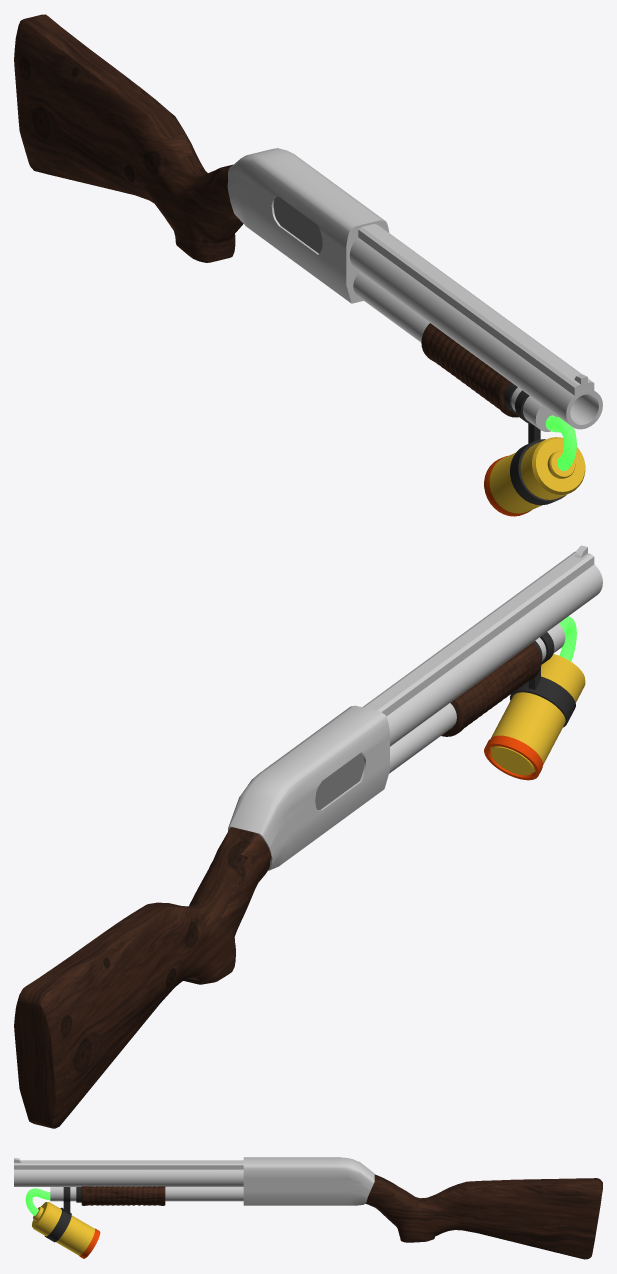
Rendered from greenballshotgun.fbx.
3 renders of one model, top to bottom at view 1: azimuth 30°, elevation 25°; view 2: azimuth 150°, elevation 25°; view 3: azimuth 270°, elevation 25°, orthographic. The views are drawn at different scales.
Parts seen in each view (by area): view 1: Cube.002, Cube, Cylinder, Cube.001, Cylinder.002, Cylinder.003, Cylinder.001, Cylinder.005, Cube.003, NurbsPath; view 2: Cube.002, Cube, Cylinder, Cube.001, Cylinder.002, Cylinder.003, Cylinder.001, Cylinder.005, Cube.003; view 3: Cube.002, Cube, Cylinder, Cube.001, Cylinder.002, Cylinder.003, Cylinder.001, Cylinder.005, NurbsPath.
Part boxes in pixels (box(x1,y1,x2,y2)): Cube.002: box(14, 14, 243, 262); Cube: box(227, 148, 389, 303); Cylinder: box(349, 237, 602, 429); Cube.001: box(358, 224, 594, 395); Cylinder.002: box(484, 437, 585, 516); Cylinder.003: box(421, 323, 518, 417); Cylinder.001: box(353, 272, 557, 431); Cylinder.005: box(510, 390, 565, 505); Cube.003: box(273, 196, 322, 253); NurbsPath: box(545, 415, 576, 470); Cube.002: box(14, 827, 271, 1128); Cube: box(228, 705, 389, 870); Cylinder: box(386, 564, 602, 746); Cube.001: box(362, 545, 594, 716); Cylinder.002: box(484, 654, 585, 780); Cylinder.003: box(441, 642, 541, 736); Cylinder.001: box(389, 623, 565, 773); Cylinder.005: box(510, 632, 575, 727); Cube.003: box(315, 753, 364, 809); Cube.002: box(365, 1174, 602, 1259); Cube: box(243, 1157, 374, 1205); Cylinder: box(14, 1169, 243, 1186); Cube.001: box(14, 1158, 243, 1169); Cylinder.002: box(32, 1202, 100, 1258); Cylinder.003: box(81, 1186, 165, 1205); Cylinder.001: box(50, 1187, 243, 1201); Cylinder.005: box(45, 1187, 71, 1242); NurbsPath: box(25, 1188, 50, 1215).
Size of the model in its own units: 117 by 376 by 2038.
